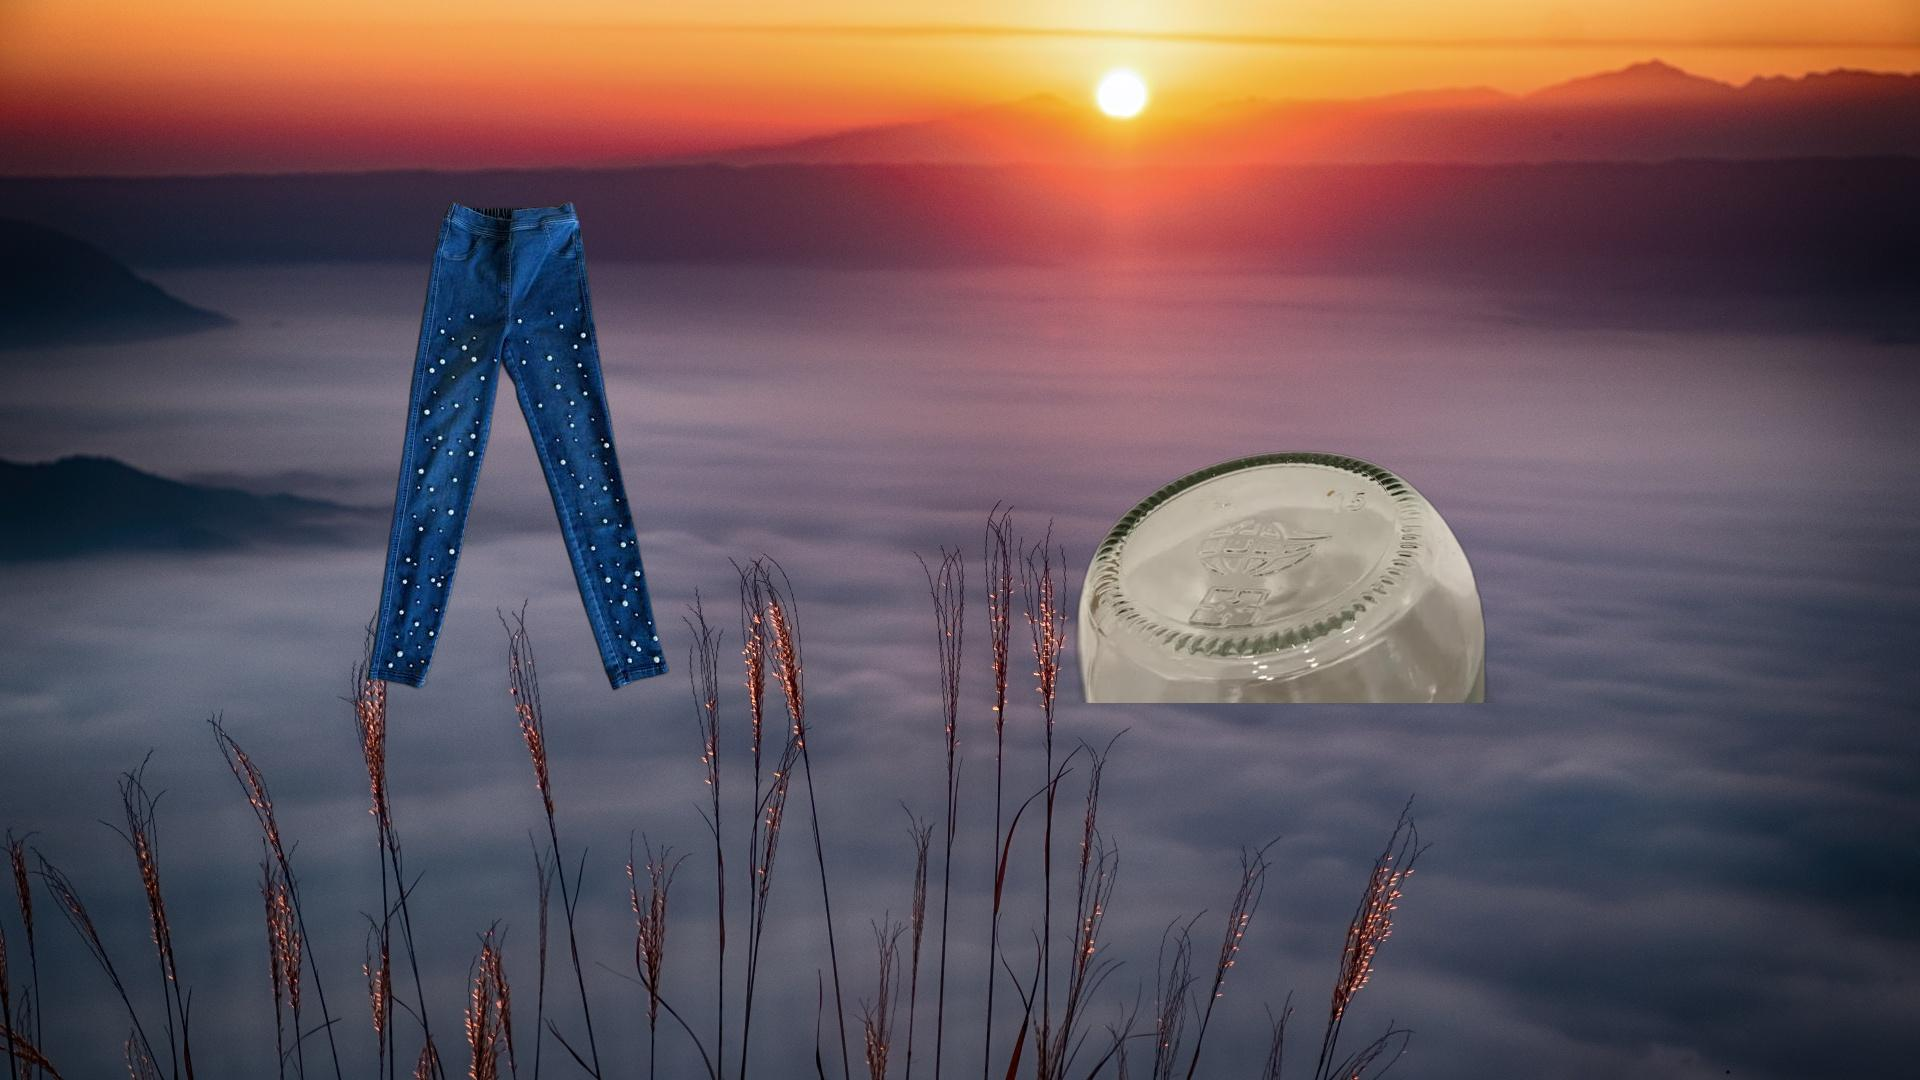clothes: (364, 196, 673, 695)
glass: (1071, 448, 1498, 703)
